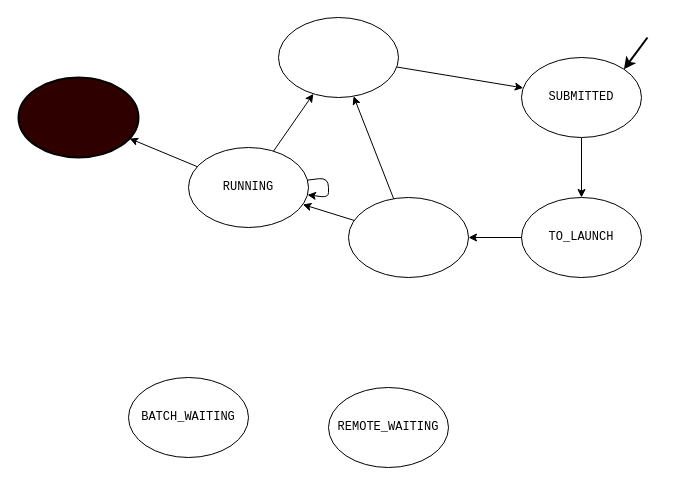
Some shapes in this 673 by 485 pixel diagram are drawn without their labels. Here are the shapes that lost their labels. From the top down, the box of each, then its label:
(278, 16, 398, 98): EVENT
(17, 76, 139, 158): TERMINATED
(348, 196, 468, 278): LAUNCHING
